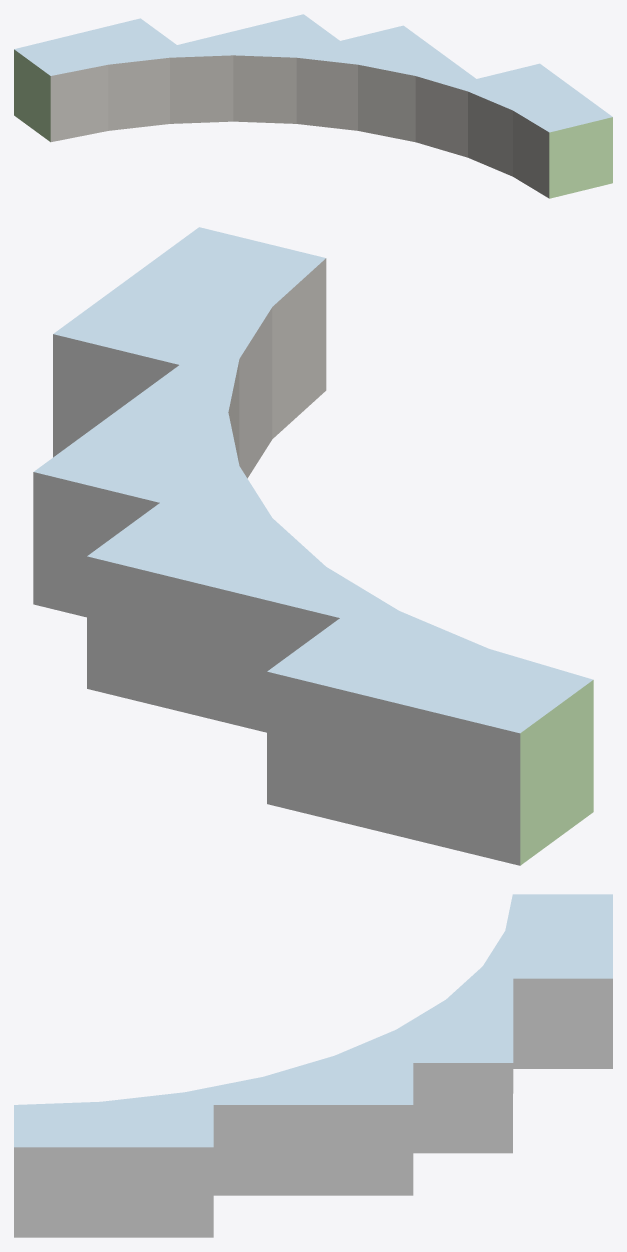
File: Wall_Curve_Inner_6x6_Mid.glb
The picture shows the model from 3 angles, top to bottom: view 1: azimuth 30°, elevation 25°; view 2: azimuth 150°, elevation 25°; view 3: azimuth 270°, elevation 25°; orthographic projection. The views are drawn at different scales.
Parts seen in each view (by area): view 1: Wall_Curve_Inner_6x6_Mid; view 2: Wall_Curve_Inner_6x6_Mid; view 3: Wall_Curve_Inner_6x6_Mid.
Boxes of the visible parts, x1,y1,x2,y2 form: Wall_Curve_Inner_6x6_Mid: (14,14,612,198); Wall_Curve_Inner_6x6_Mid: (33,227,593,865); Wall_Curve_Inner_6x6_Mid: (14,894,612,1237).
Bounding box in the file's own units: 600 × 100 × 600.
